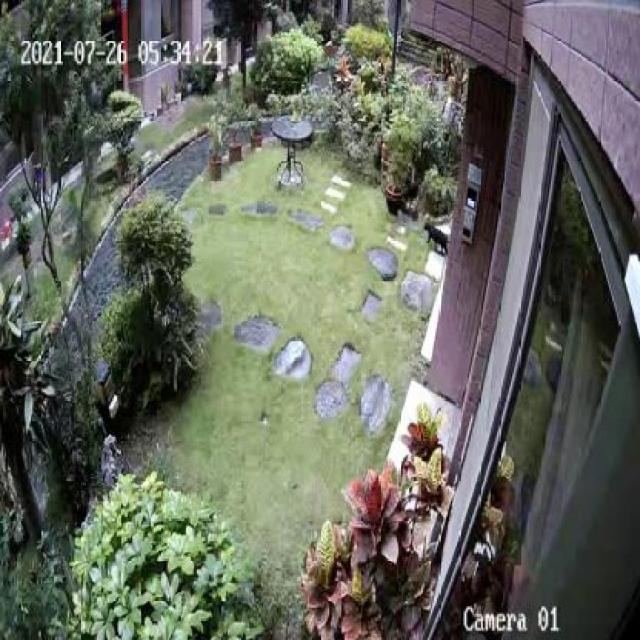animals: (422, 219, 453, 261)
